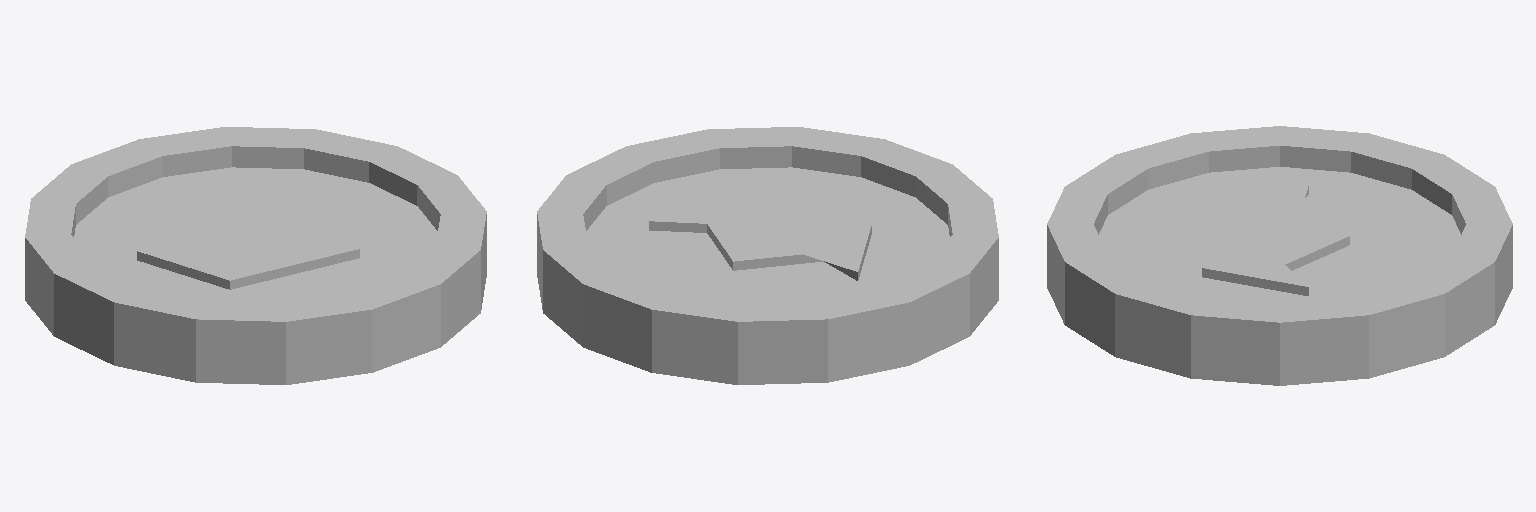
File: coin-crown.obj
3 views of the same model, side by side, from view 1: azimuth 30°, elevation 25°; view 2: azimuth 150°, elevation 25°; view 3: azimuth 270°, elevation 25° (orthographic).
Visible parts, largest first — view 1: coin_Cylinder; view 2: coin_Cylinder; view 3: coin_Cylinder.
Part boxes in pixels (x1,y1,x2,y2): coin_Cylinder: (25,127,486,384); coin_Cylinder: (537,127,998,384); coin_Cylinder: (1047,126,1512,385).
Bounding box in the file's own units: 20 × 3 × 20.